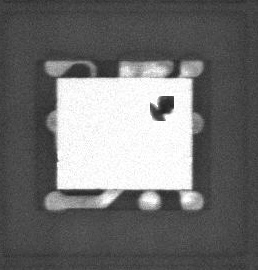DIE_INK: (143, 100, 165, 126)
